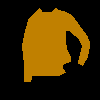maglia: (22, 7, 90, 82)
